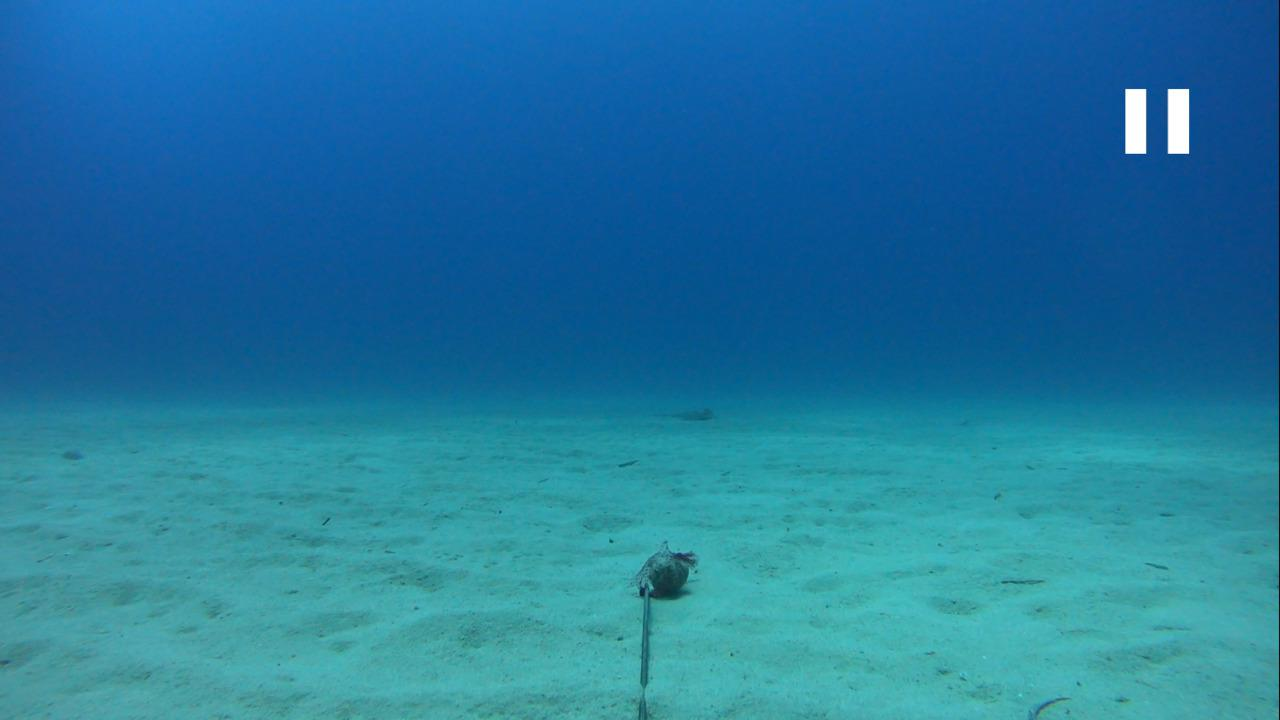myliobatis: (631, 400, 714, 424)
